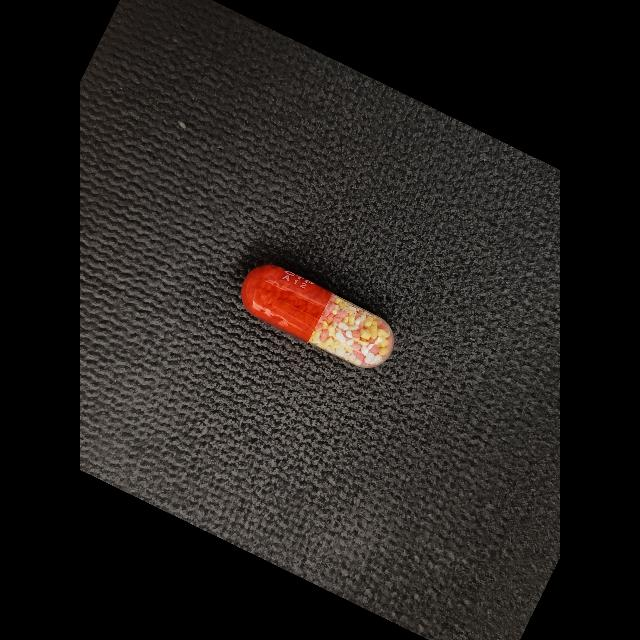Intact Capsule: (240, 265, 394, 368)
